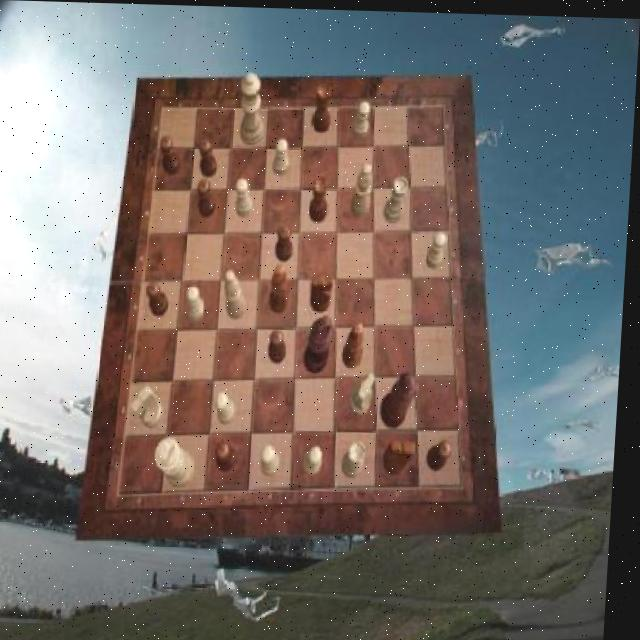bishop: (273, 262, 296, 312), (345, 321, 368, 367)
black-bishop: (308, 314, 338, 372)
black-king: (389, 437, 422, 473), (312, 272, 336, 310)
black-knight: (161, 135, 184, 174), (199, 139, 221, 178), (432, 438, 458, 470), (149, 281, 173, 315), (198, 177, 219, 215), (220, 439, 242, 471), (271, 328, 290, 363), (279, 224, 297, 260)
black-pawn: (385, 368, 425, 427)
black-queen: (313, 81, 334, 131), (312, 173, 333, 220)
black-rook: (353, 162, 376, 217), (227, 269, 252, 318)
white-bishop: (161, 438, 203, 486)
white-king: (136, 385, 171, 428), (353, 370, 380, 415)
white-knight: (428, 229, 450, 267), (237, 176, 258, 215), (219, 390, 242, 423), (275, 136, 294, 174), (354, 99, 373, 137), (190, 285, 210, 321), (266, 443, 287, 476), (308, 443, 328, 475)
white-pawn: (240, 70, 268, 145)
white-queen: (387, 175, 412, 222), (348, 438, 373, 476)
